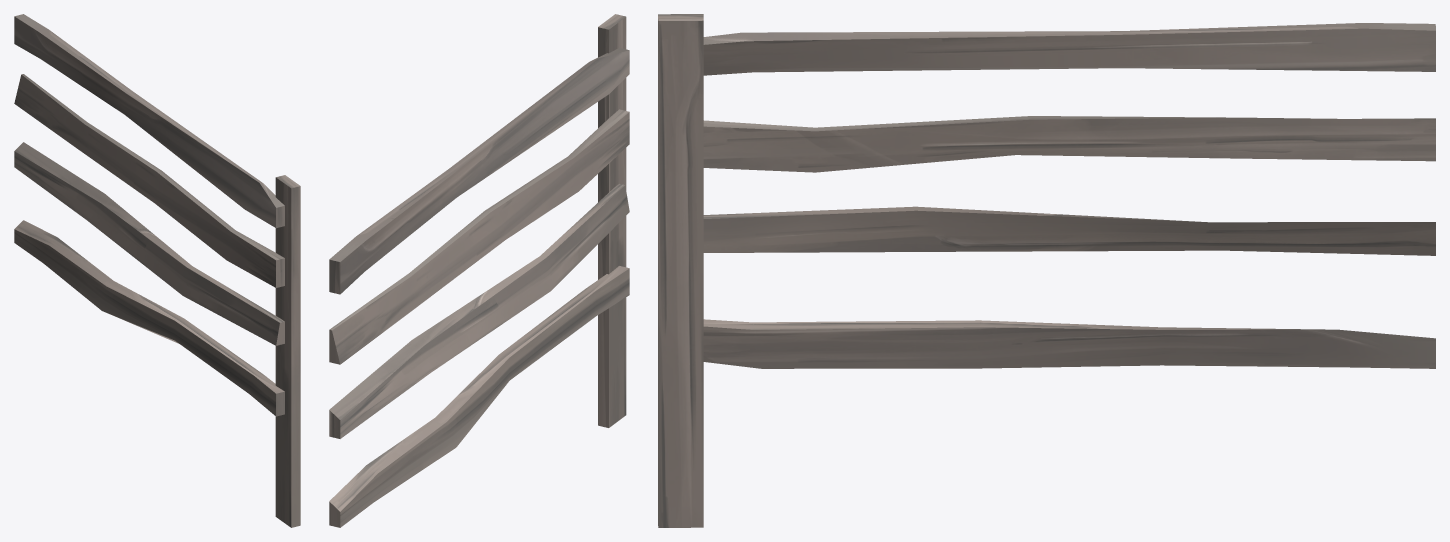
File: picket.fbx
The picture shows the model from 3 angles, left to right: view 1: azimuth 30°, elevation 25°; view 2: azimuth 150°, elevation 25°; view 3: azimuth 270°, elevation 25°; orthographic projection. The views are drawn at different scales.
Parts seen in each view (by area): view 1: korkuluk1; view 2: korkuluk1; view 3: korkuluk1.
Part boxes in pixels (<box>): korkuluk1: <box>14,14,300,527</box>; korkuluk1: <box>329,14,629,527</box>; korkuluk1: <box>658,14,1435,527</box>.
Bounding box in the file's own units: 0.4868 × 4.99 × 6.94.
Materials: 1 (1 with a texture image).
